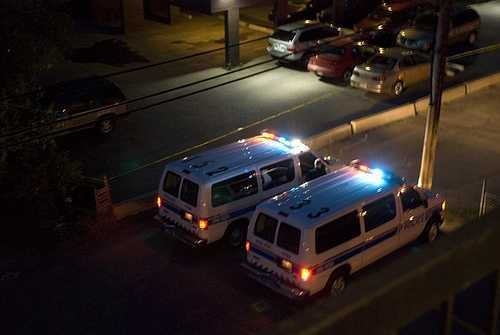Police Van: (130, 127, 323, 256), (273, 172, 444, 286)
